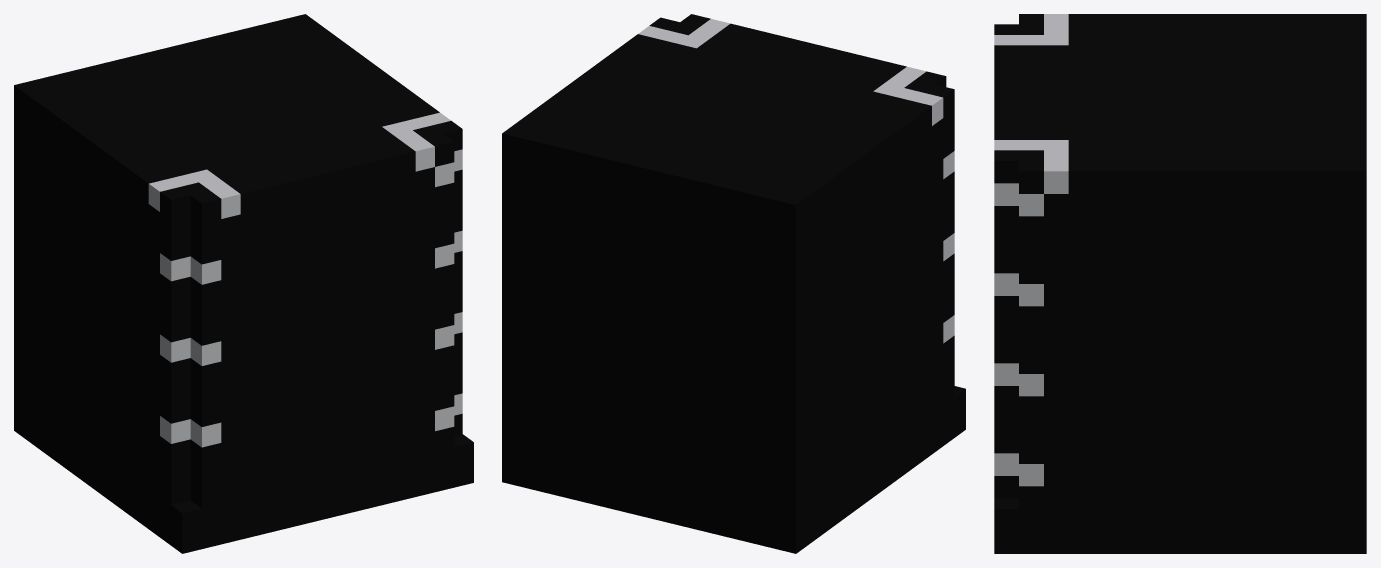
File: dungeon_d_a_outer_wall_segment_b.obj
3 views of the same model, side by side, from view 1: azimuth 30°, elevation 25°; view 2: azimuth 150°, elevation 25°; view 3: azimuth 270°, elevation 25° (orthographic). The views are drawn at different scales.
Size of the model in its own units: 1.5 by 1.7 by 1.5.
Materials: 1 (1 with a texture image).
